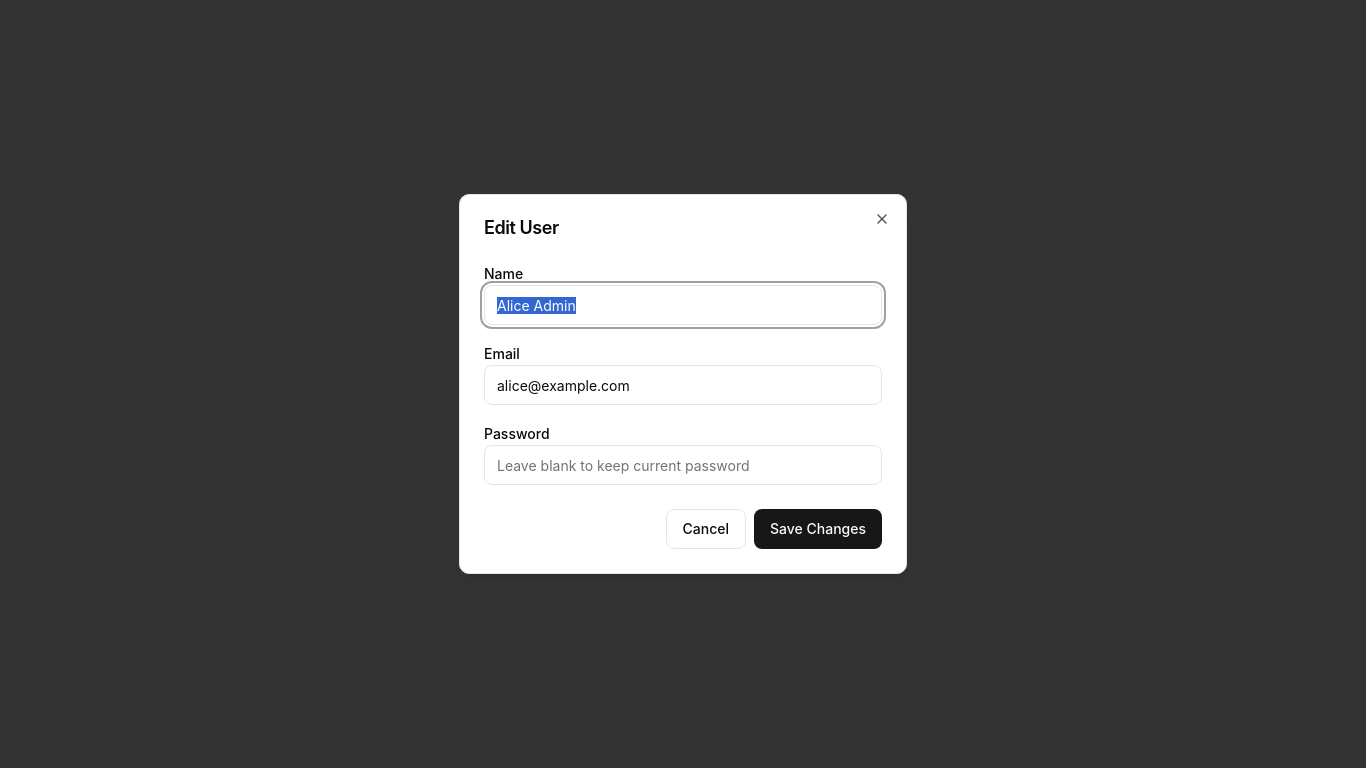
Test: EditUserModal form › shows a validation error when email is invalid
The width and height of the screenshot is (1366, 768).
Replace the text in the field labelled "Email" with "not-an-email": {"x": 683, "y": 385} [484,365,882,405]
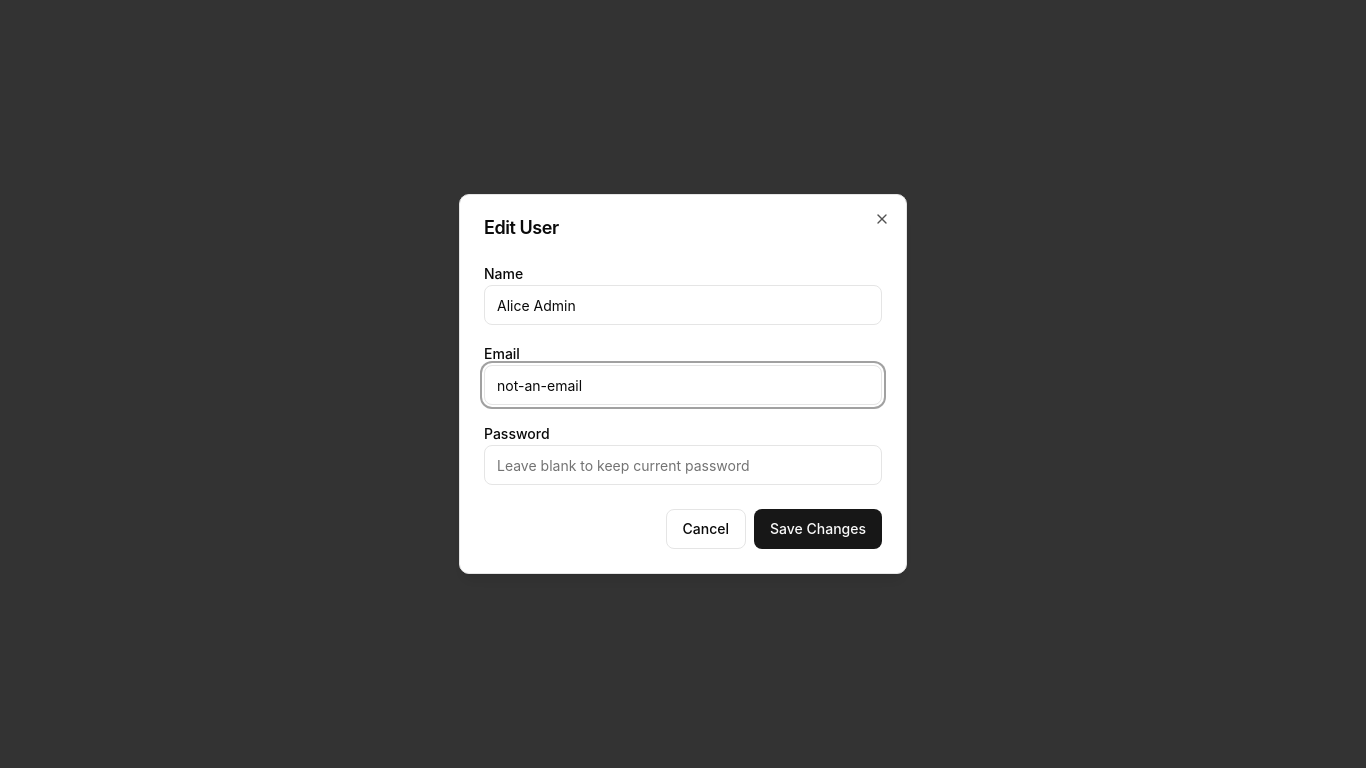
Click the button "Save Changes": {"x": 818, "y": 529} [754,509,882,549]
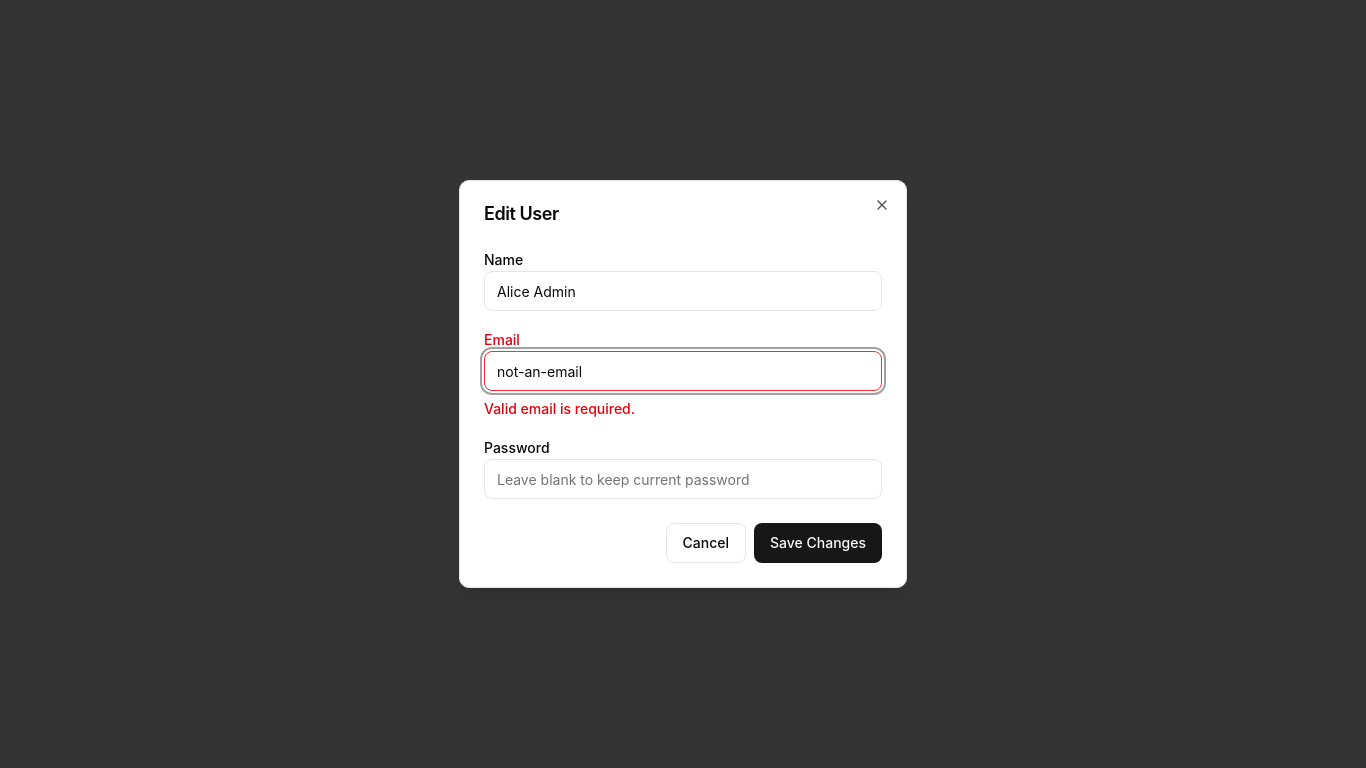
Expected: the text "Valid email is required." is shown, [484,400,635,417]
